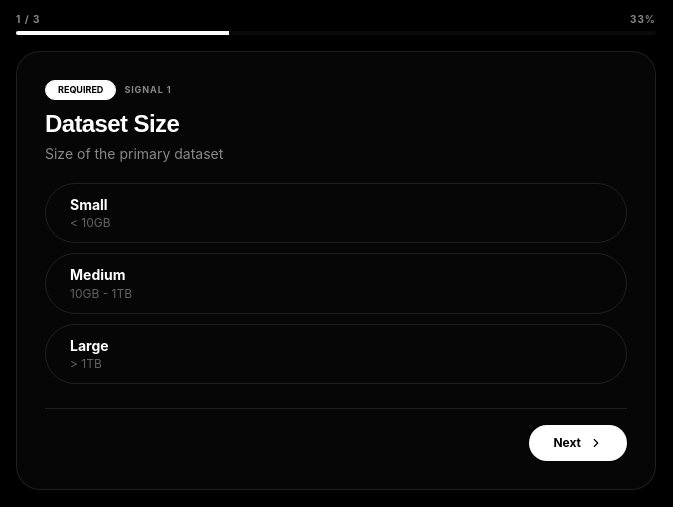
it: QuestionnaireForm — Multi-Step Navigation › Back button navigates to previous step
Expected: the heading "Dataset Size" is shown, [45,110,179,136]
Click the text "Large" at (89, 345), box [70,337,109,354]
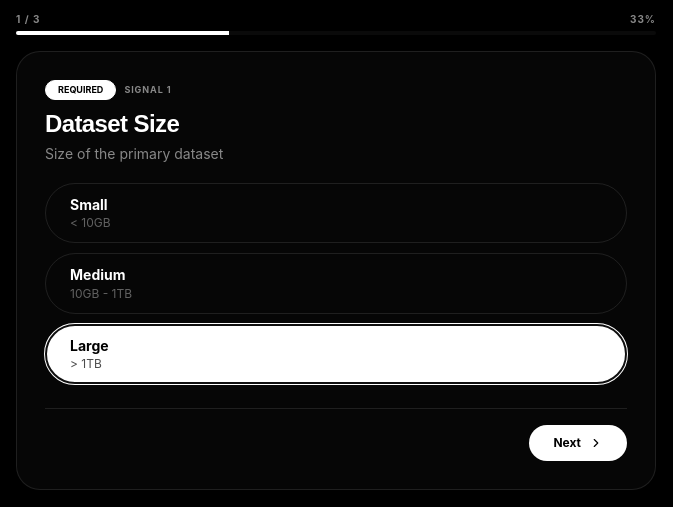
Click the button "Next" at (578, 443), box [529,425,627,461]
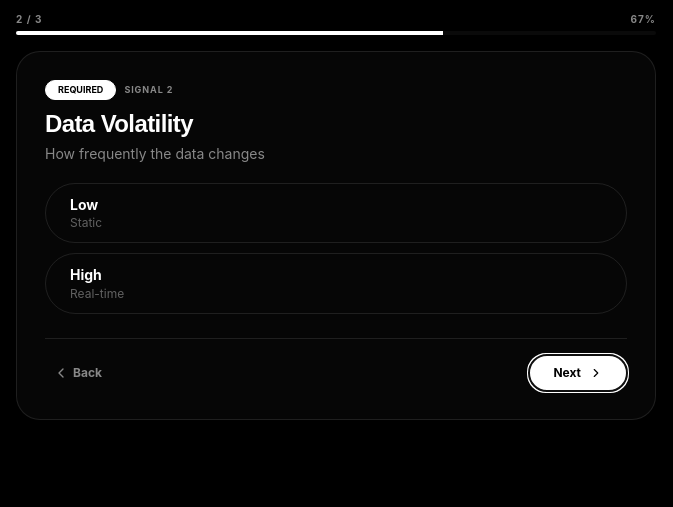
Result: the heading "Data Volatility" is shown at [45,110,193,136]
Click the button "Back" at (77, 373), box [45,357,110,389]
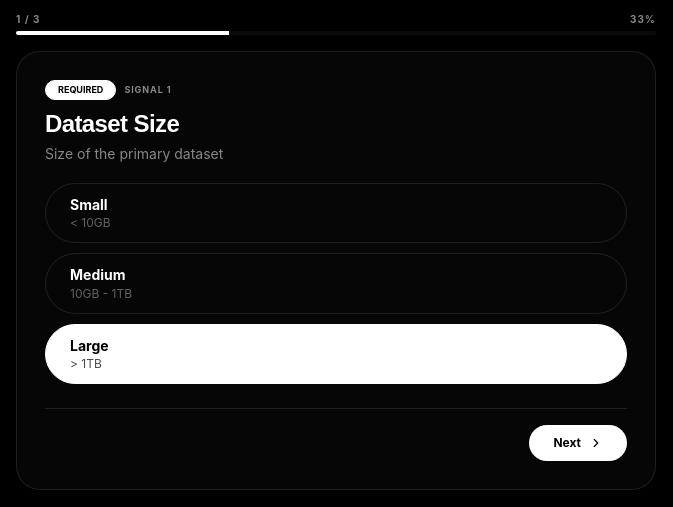
Result: the heading "Dataset Size" is shown at [45,110,179,136]
Result: the text "1 / 3" is shown at [16,12,40,27]
